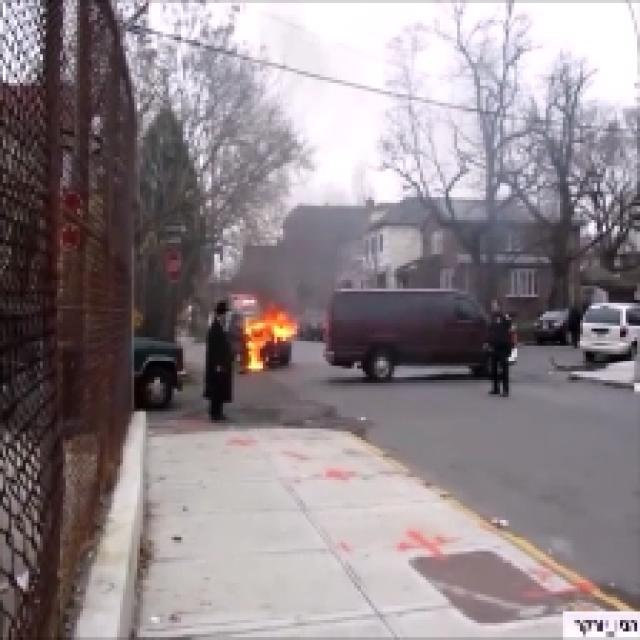fire: (242, 310, 296, 372)
